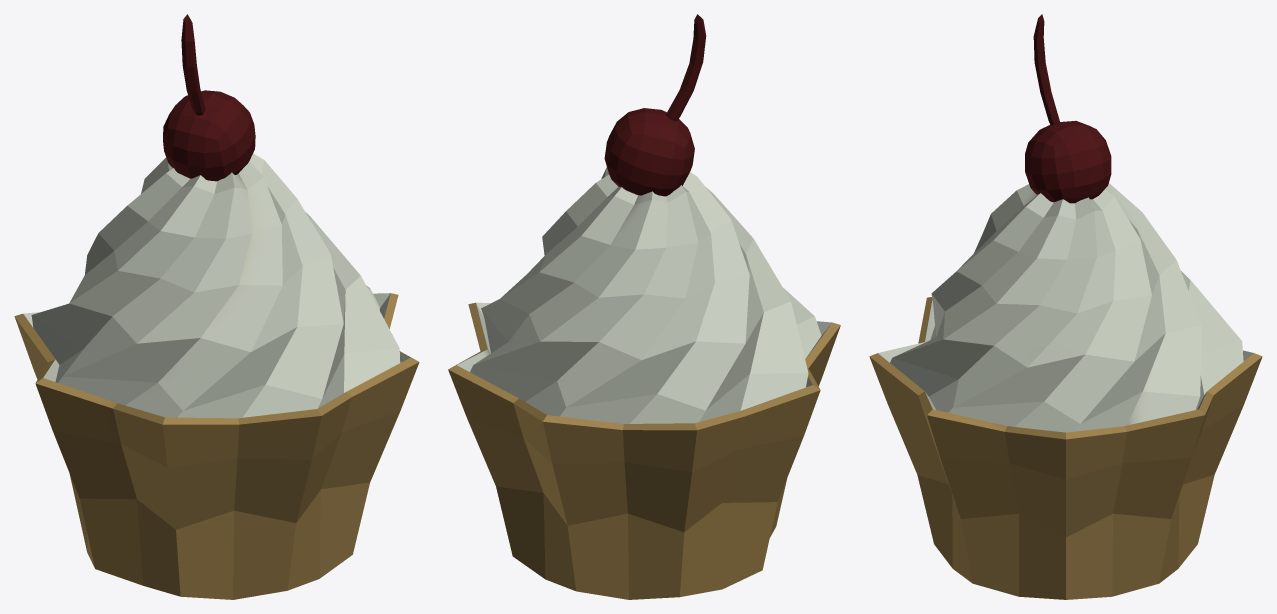
File: cupcake.fbx
3 views of the same model, side by side, from view 1: azimuth 30°, elevation 25°; view 2: azimuth 150°, elevation 25°; view 3: azimuth 270°, elevation 25° (orthographic). The views are drawn at different scales.
Parts seen in each view (by area): view 1: Cupcake-Pro; view 2: Cupcake-Pro; view 3: Cupcake-Pro.
Part boxes in pixels (left/top/right/bottom): Cupcake-Pro: left=14, top=14, right=419, bottom=599; Cupcake-Pro: left=448, top=14, right=840, bottom=599; Cupcake-Pro: left=869, top=14, right=1262, bottom=599.
Bounding box in the file's own units: 56.03 × 81.23 × 56.03.
